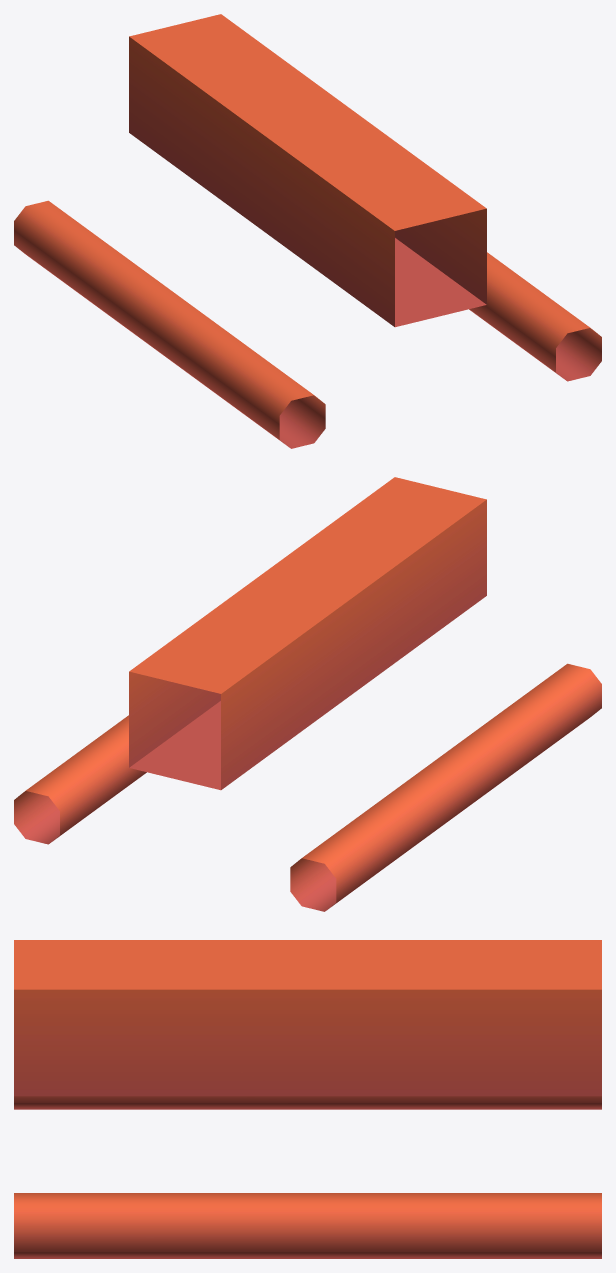
Rendered from coaster-hanging-track.glb.
3 views of the same model, one above another, from view 1: azimuth 30°, elevation 25°; view 2: azimuth 150°, elevation 25°; view 3: azimuth 270°, elevation 25° (orthographic). The views are drawn at different scales.
Visible parts, largest first — view 1: coaster-hanging-track; view 2: coaster-hanging-track; view 3: coaster-hanging-track.
Part boxes in pixels (<box>): coaster-hanging-track: <box>14,14,601,448</box>; coaster-hanging-track: <box>14,477,601,911</box>; coaster-hanging-track: <box>14,940,601,1258</box>.
Size of the model in its own units: 0.7 by 0.3999 by 1.
1 material, 1 textured.
